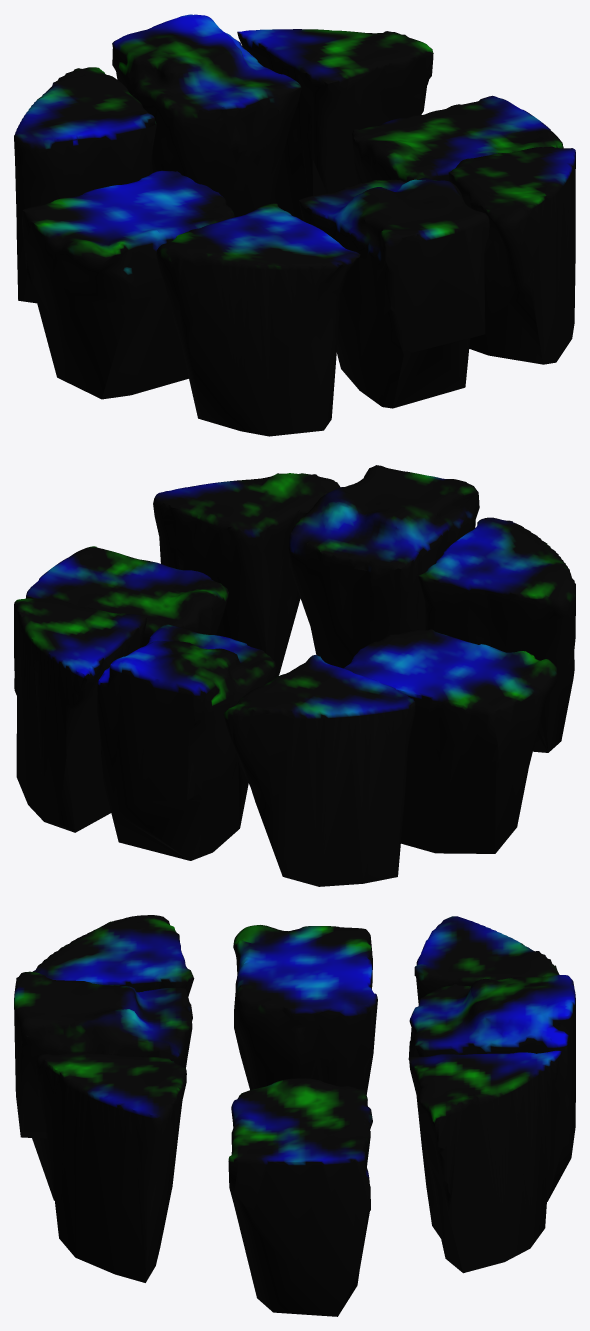
The model's file is SM_Island_VoF.fbx.
3 views of the same model, one above another, from view 1: azimuth 30°, elevation 25°; view 2: azimuth 150°, elevation 25°; view 3: azimuth 270°, elevation 25° (orthographic).
Visible parts, largest first — view 1: Island_03, Island_07, Island_01, Island_05, Island_08, Island_04, Island_02, Island_06; view 2: Island_02, Island_05, Island_01, Island_07, Island_04, Island_08, Island_03, Island_06; view 3: Island_06, Island_08, Island_04, Island_01, Island_07, Island_05, Island_03, Island_02.
Part boxes in pixels (x1,y1,x2,y2): Island_03: (156, 203, 360, 436); Island_07: (299, 177, 490, 408); Island_01: (22, 170, 234, 399); Island_05: (112, 14, 301, 217); Island_08: (448, 146, 575, 364); Island_04: (237, 29, 433, 220); Island_02: (14, 67, 156, 303); Island_06: (352, 95, 563, 183); Island_02: (223, 655, 415, 886); Island_05: (96, 624, 276, 860); Island_01: (344, 629, 557, 853); Island_07: (288, 465, 479, 668); Island_04: (14, 598, 147, 832); Island_08: (153, 473, 340, 677); Island_03: (417, 517, 575, 752); Island_06: (26, 546, 228, 647); Island_06: (228, 1078, 372, 1316); Island_08: (35, 1052, 186, 1282); Island_04: (409, 1050, 561, 1273); Island_01: (233, 925, 377, 1094); Island_07: (14, 971, 192, 1200); Island_05: (408, 975, 575, 1201); Island_03: (32, 915, 194, 996); Island_02: (414, 916, 559, 1004).
Bounding box in the file's own units: 17242 × 7356 × 17245.
